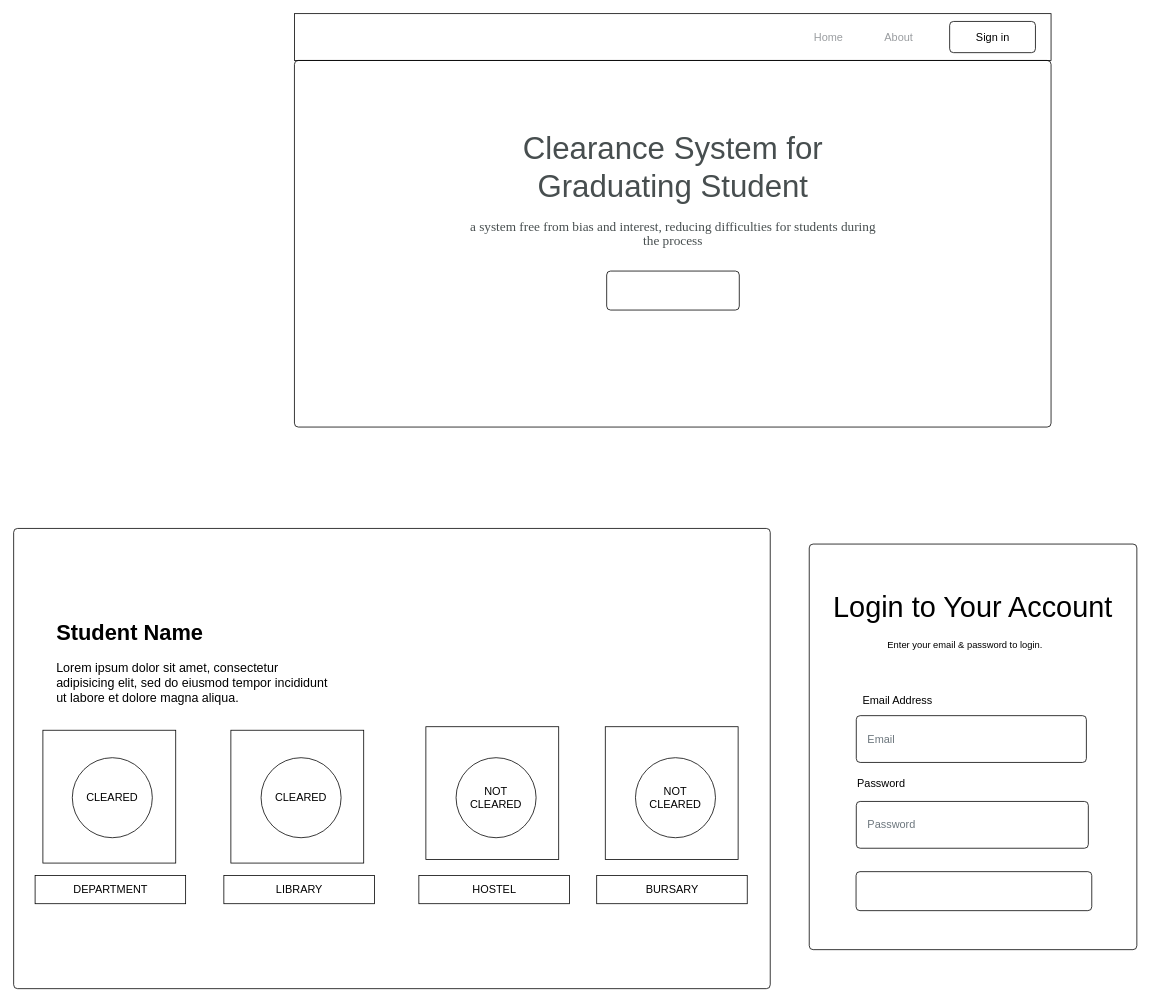
Some shapes in this 1151 by 1002 pixel diagram are drawn without their labels. Each missing label, with the box of its shape:
Clearance Status: (13, 528, 770, 989)
e-CLEARANCE: (294, 13, 1051, 60)
Get Started: (606, 270, 739, 310)
Login: (855, 871, 1092, 911)
